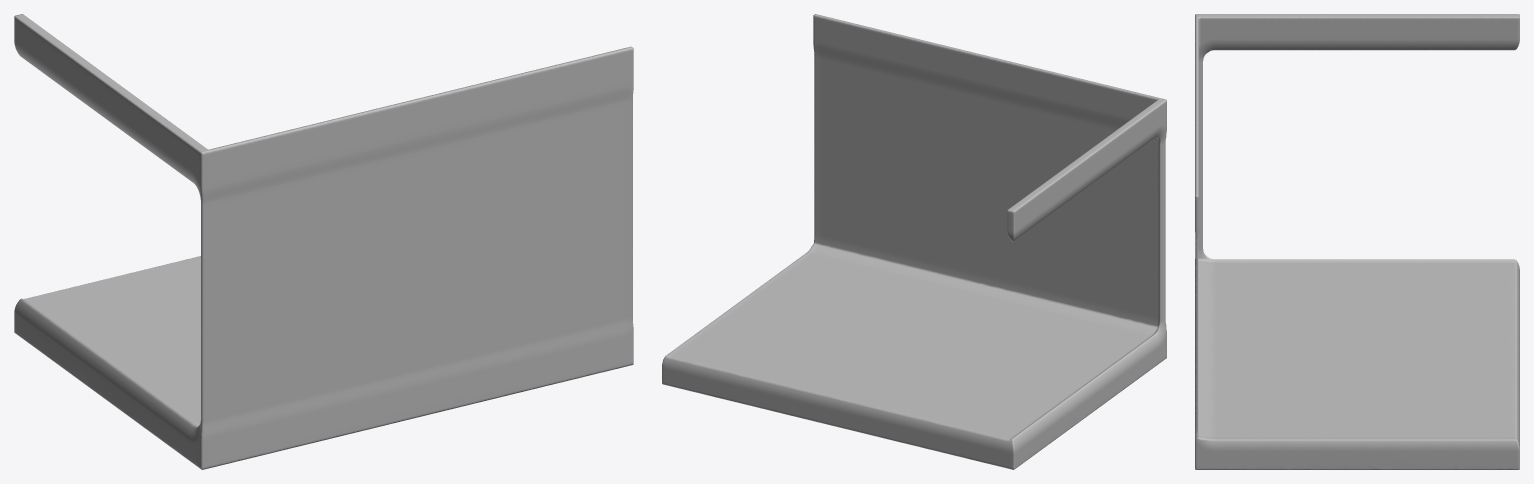
Rendered from base_and_window.glb.
The picture shows the model from 3 angles, left to right: view 1: azimuth 30°, elevation 25°; view 2: azimuth 150°, elevation 25°; view 3: azimuth 270°, elevation 25°; orthographic projection. The views are drawn at different scales.
Visible parts, largest first — view 1: model_0; view 2: model_0; view 3: model_0.
Boxes of the visible parts, x1,y1,x2,y2 form: model_0: (14,14,633,469); model_0: (662,14,1166,469); model_0: (1195,14,1519,469).
Size of the model in its own units: 1579 by 1107 by 1188.
1 material, 1 textured.
